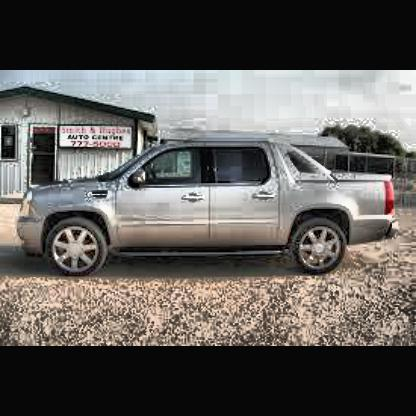Cadillac Escalade EXT Crew Cab 2007: (15, 130, 406, 284)
